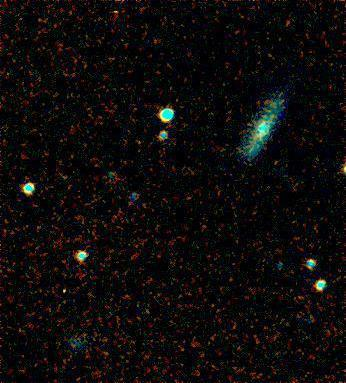star: (51, 280, 81, 310)
